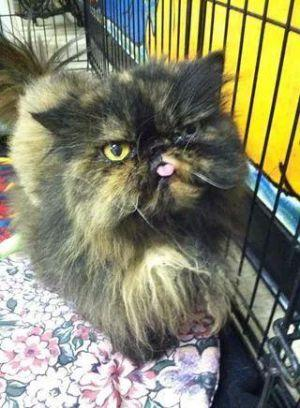persian: (23, 46, 253, 229)
